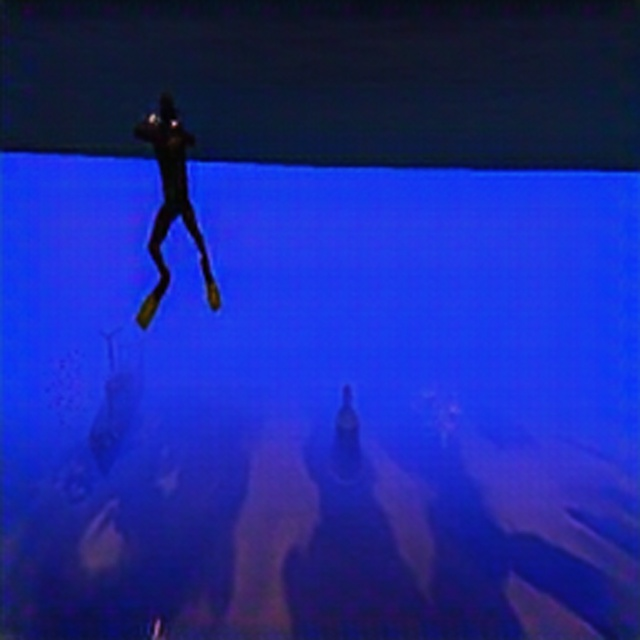diver: (132, 89, 221, 312)
